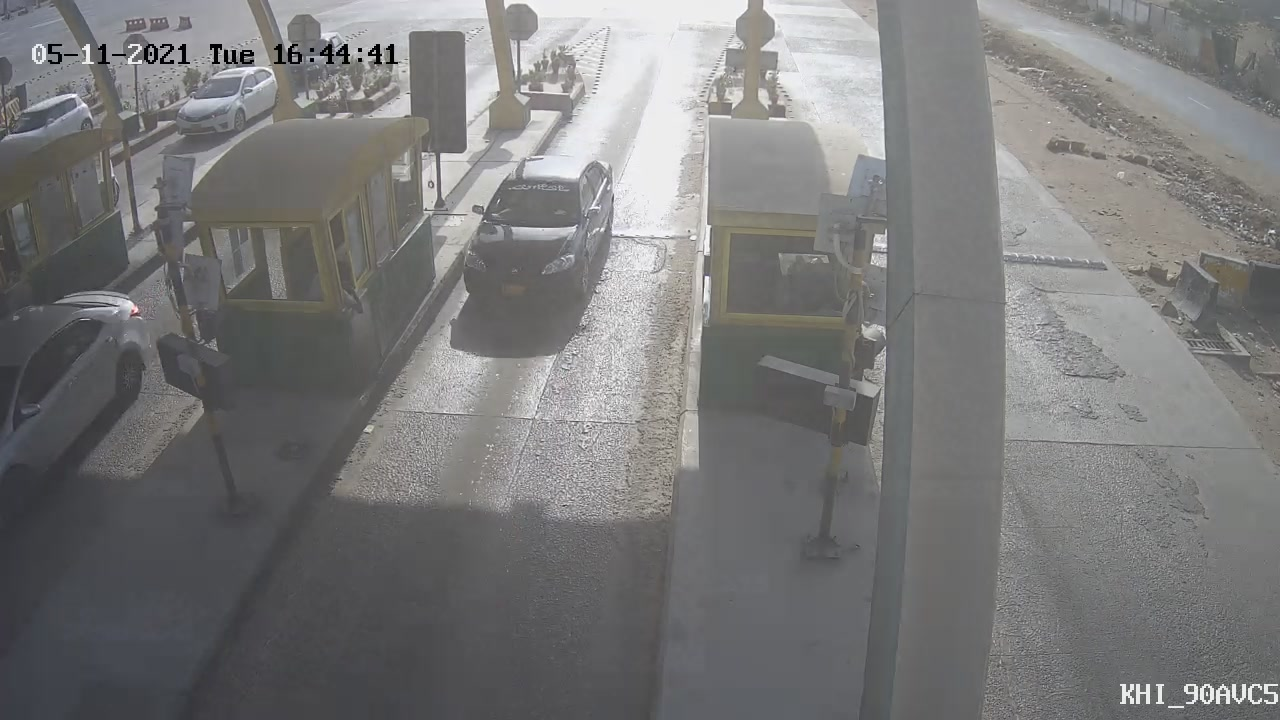F1: (446, 139, 633, 336)
